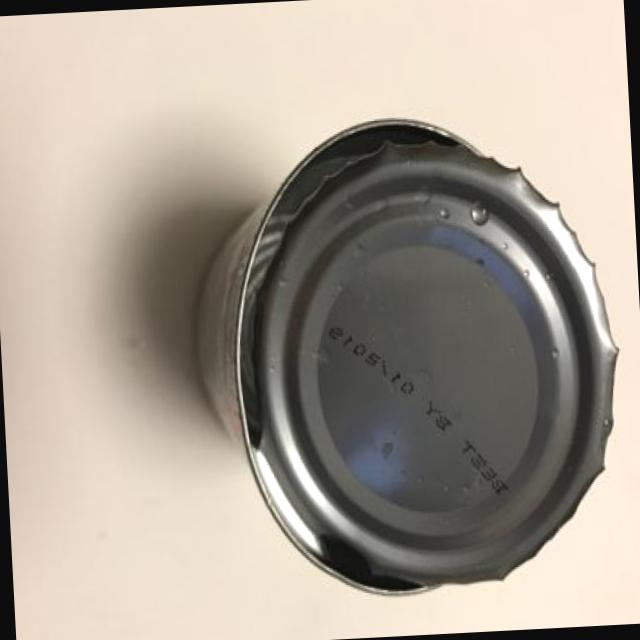kim_loai: (196, 119, 618, 593)
